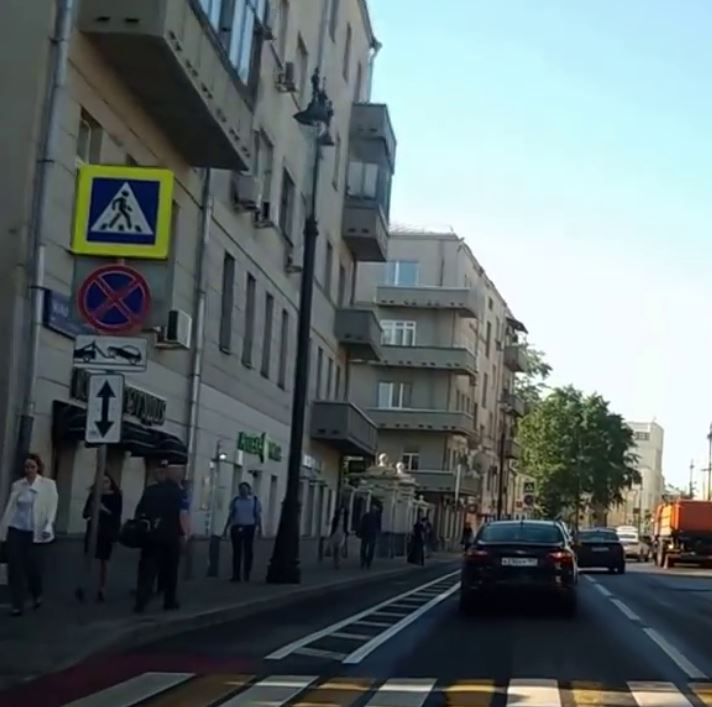Yaya Gecidi: (86, 172, 159, 243)
